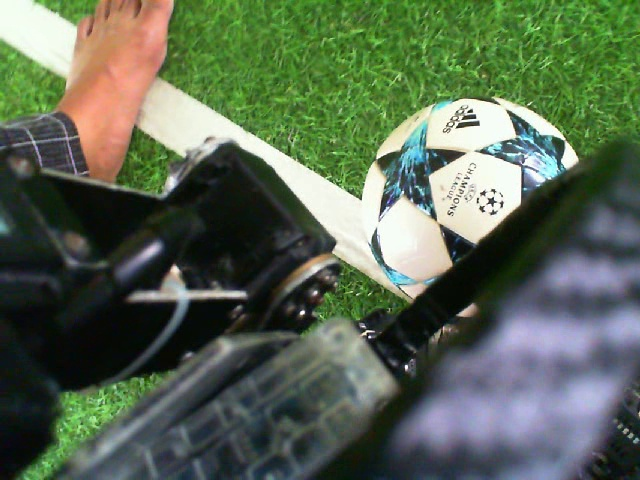ball: (359, 92, 583, 307)
